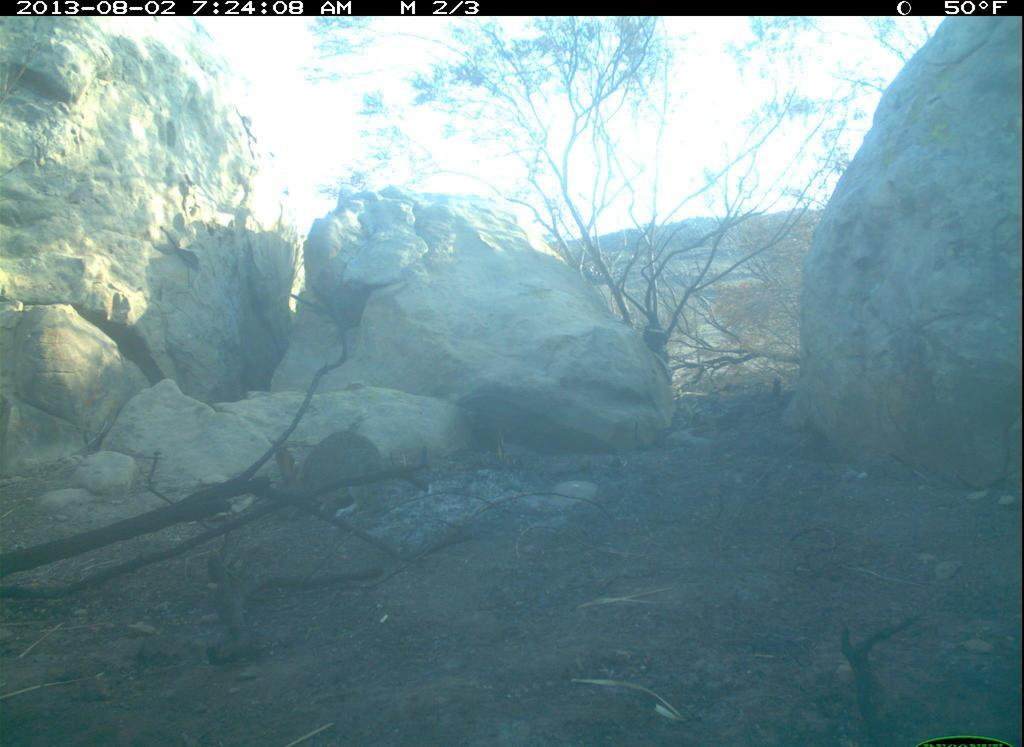bird: (267, 426, 392, 528)
